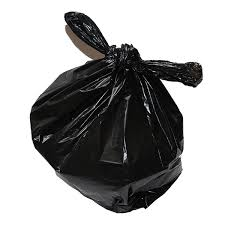Trash: (18, 13, 209, 216)
